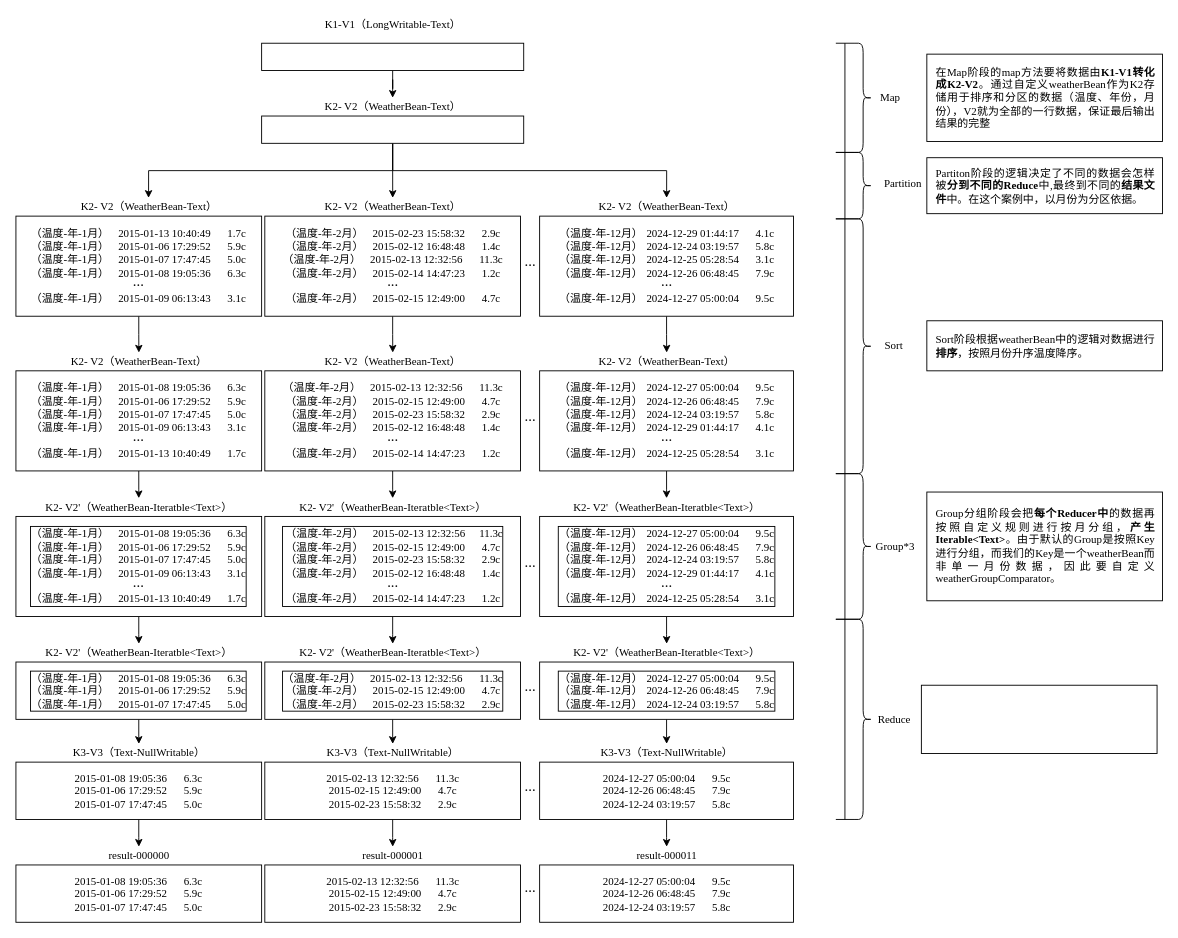
The diagram is 1178 pixels wide and 938 high, and some of its shapes have lost their labels. The box of each missing label's shape, as (x1, y1, x2, y2) in pixels:
偏移 YYYY-MM-DD HH:MM:SS Tc: (261, 42, 524, 71)
进入Reduce前，已经分组产生了有序的月份数据组，其是 可迭代对象 。根据业务需求，迭代输出三次就是输出Top3高温的数据。: (920, 684, 1157, 753)
（温度-年-月） YYYY-MM-DD HH:MM:SS Tc: (261, 115, 524, 143)
